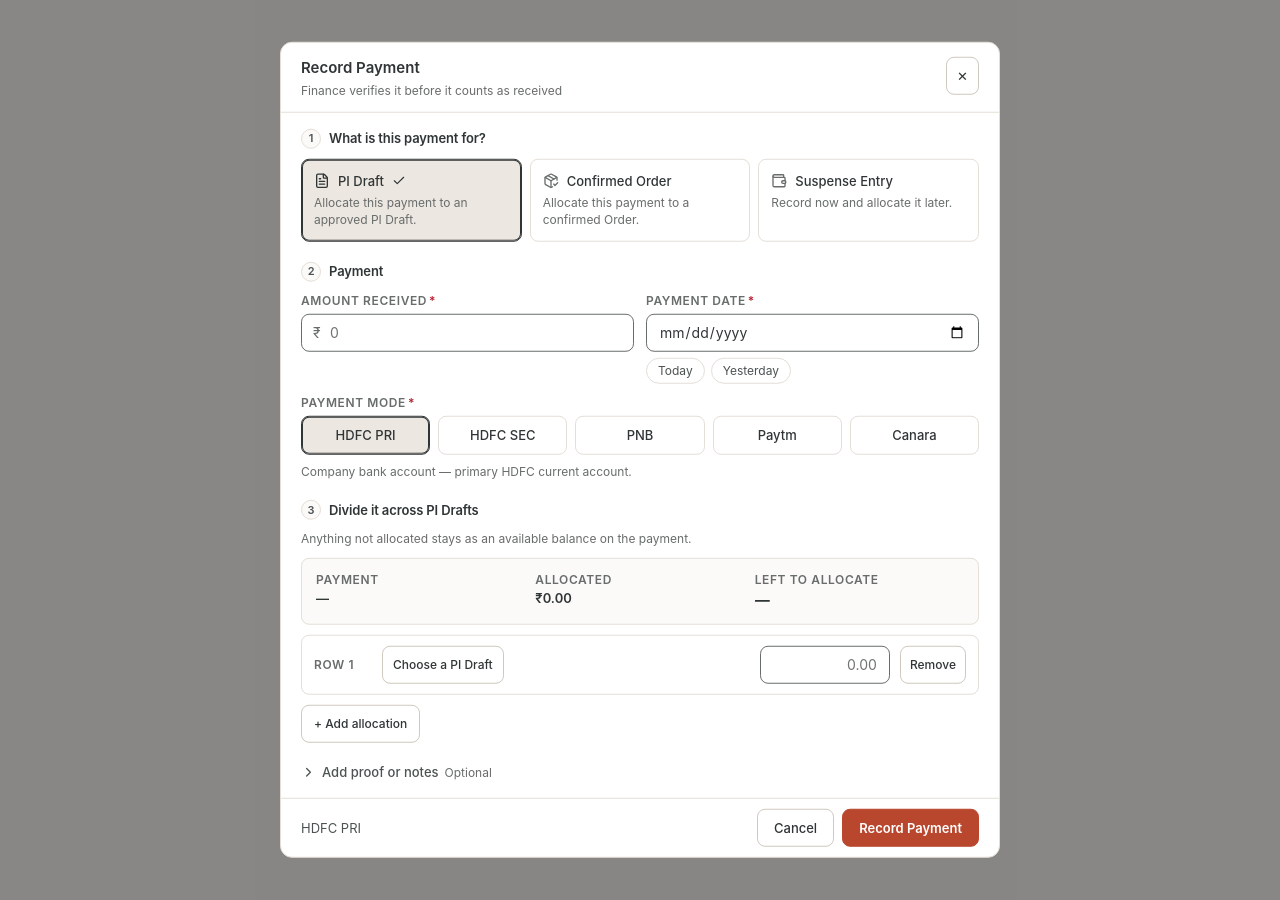
Record Payment with an old order › "Change" takes the row back to an unchosen one
This screenshot has width=1280, height=900.
Click the radio button labelled "Confirmed Order Allocate this payment to a confirmed Order." at (640, 200), box [530,158,750,241]
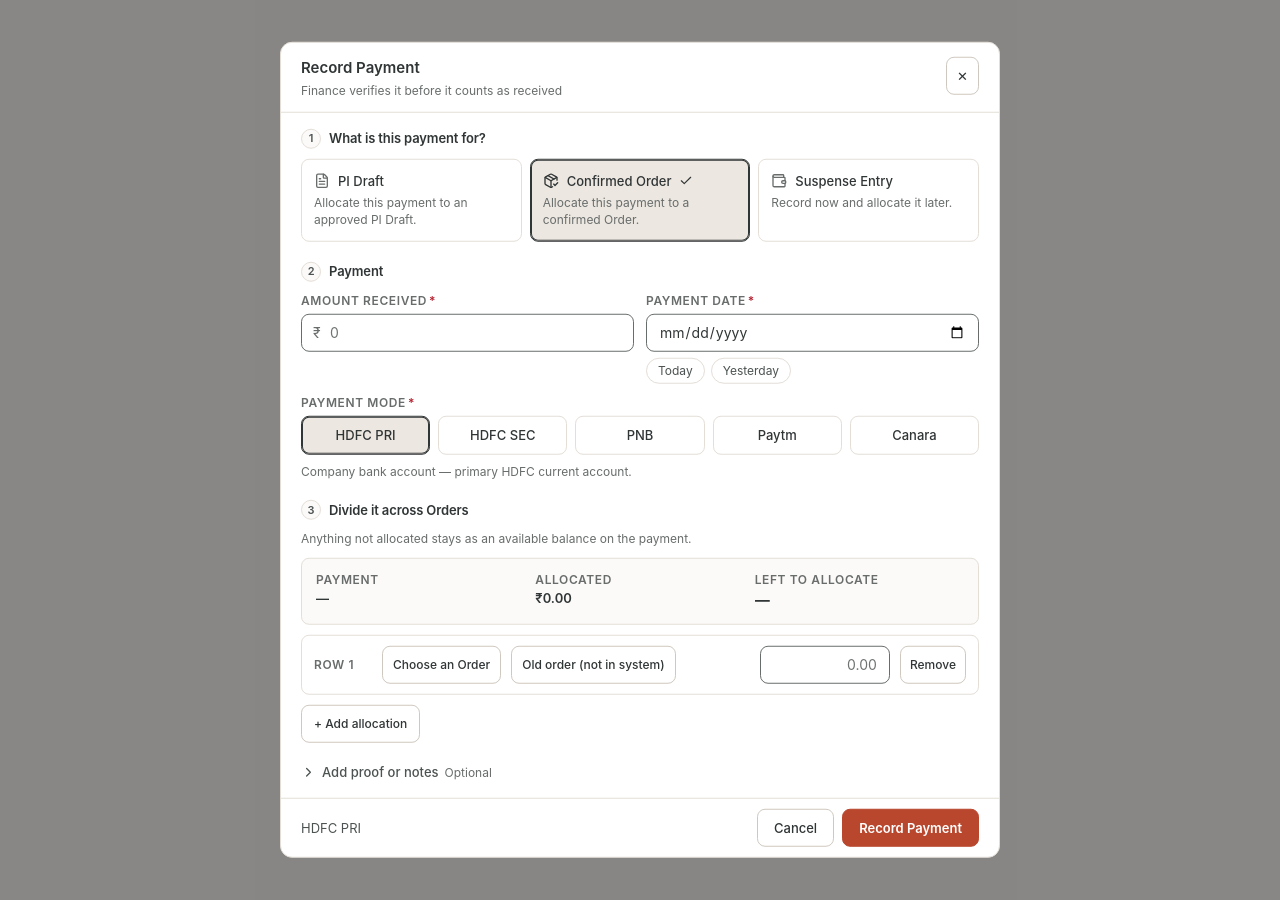
Click the button "Old order (not in system)" at (593, 665), box [511,646,676,684]
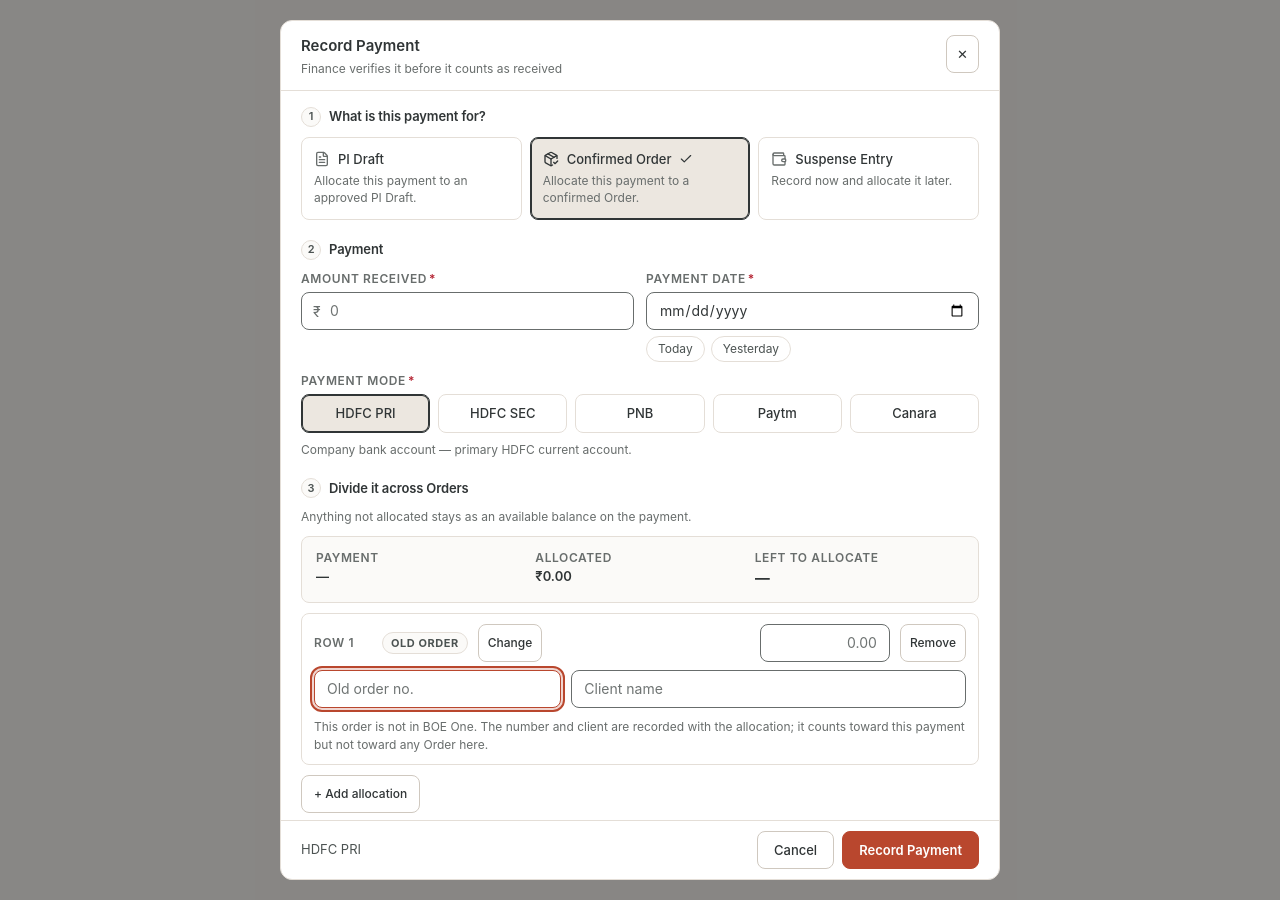
Click the button "Change" at (510, 643), box [478,624,542,662]
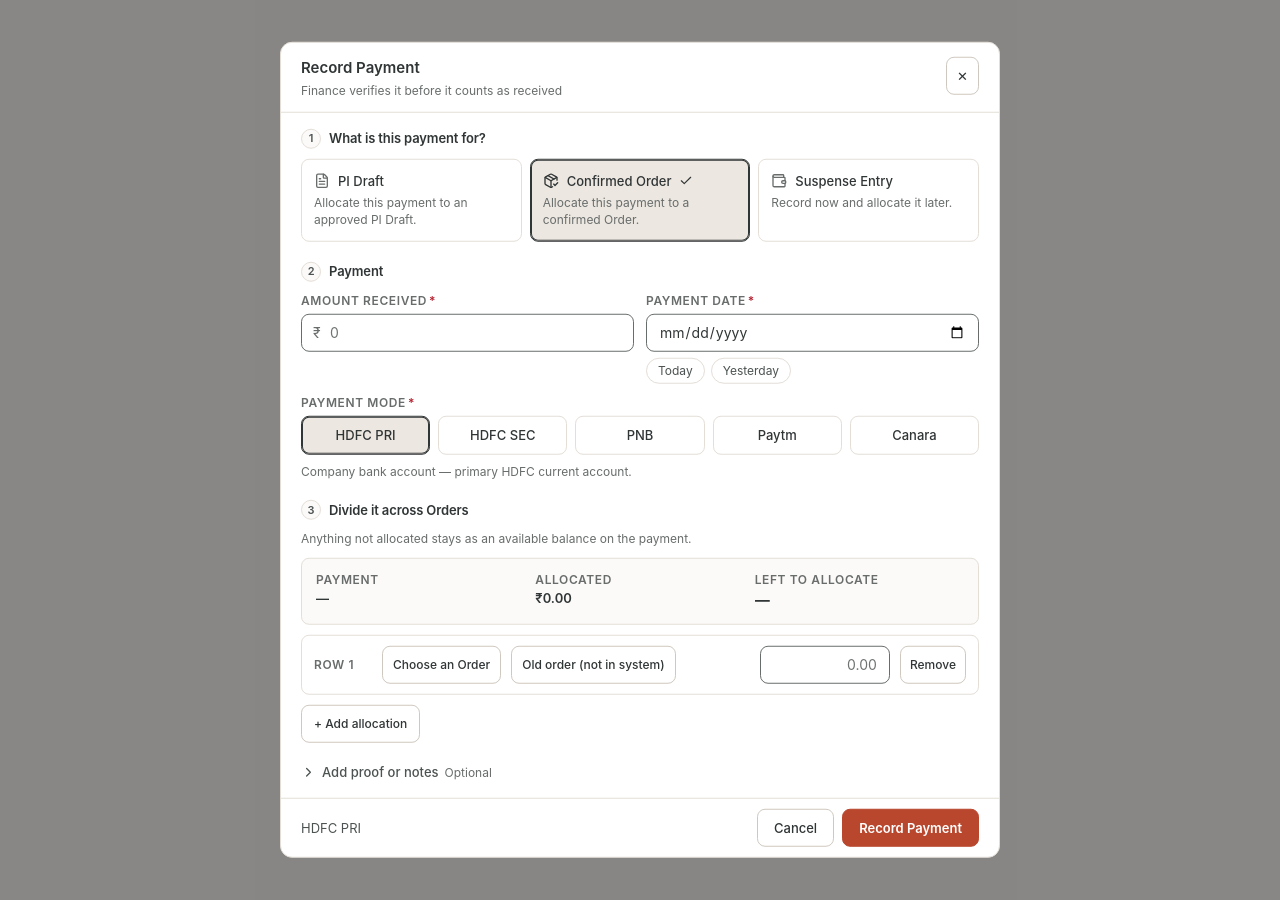
expect the button "Choose an Order" is shown: met, box [382,646,501,684]
